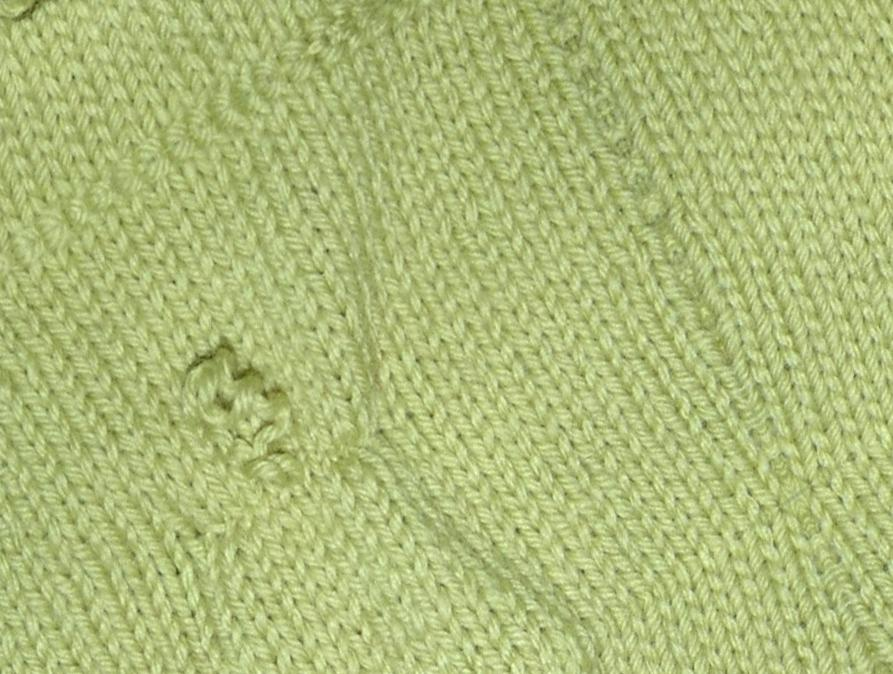knot: (180, 334, 318, 498)
